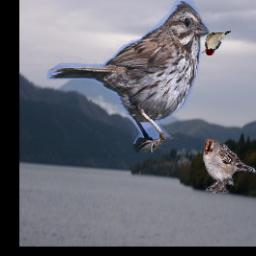Sparrow: (47, 0, 211, 154), (202, 139, 256, 194)
Woodpecker: (202, 30, 232, 55)
